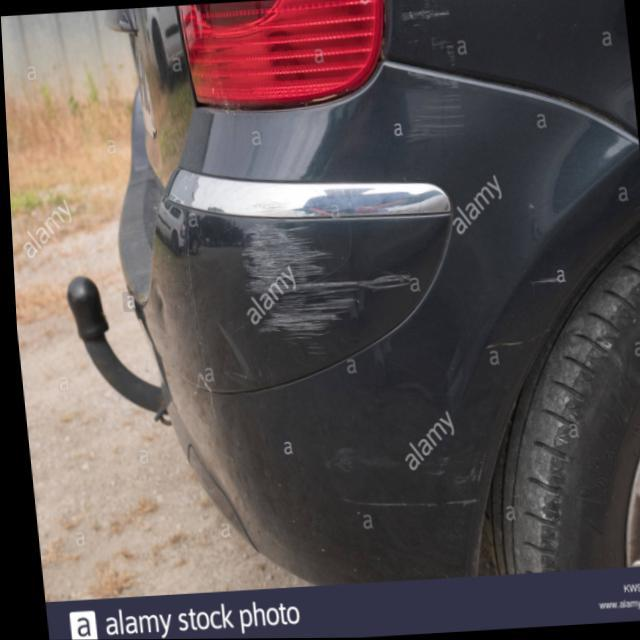Scratch: (218, 196, 448, 361)
